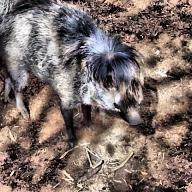boar: (1, 0, 156, 146)
